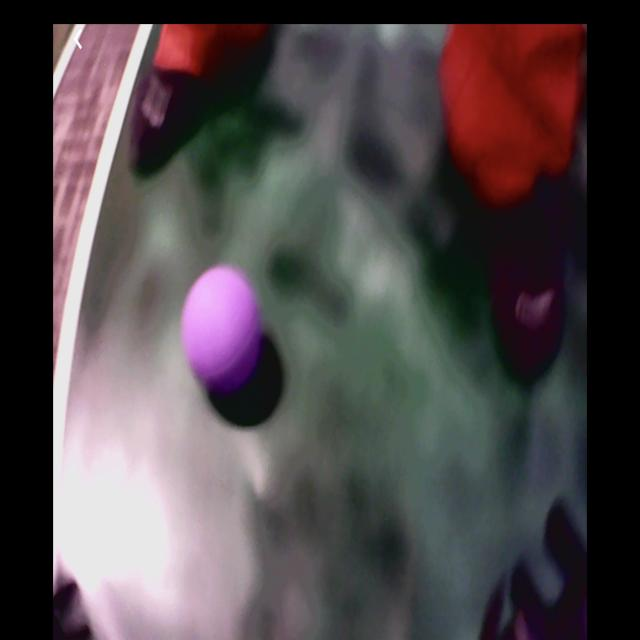ball: (185, 269, 264, 392)
